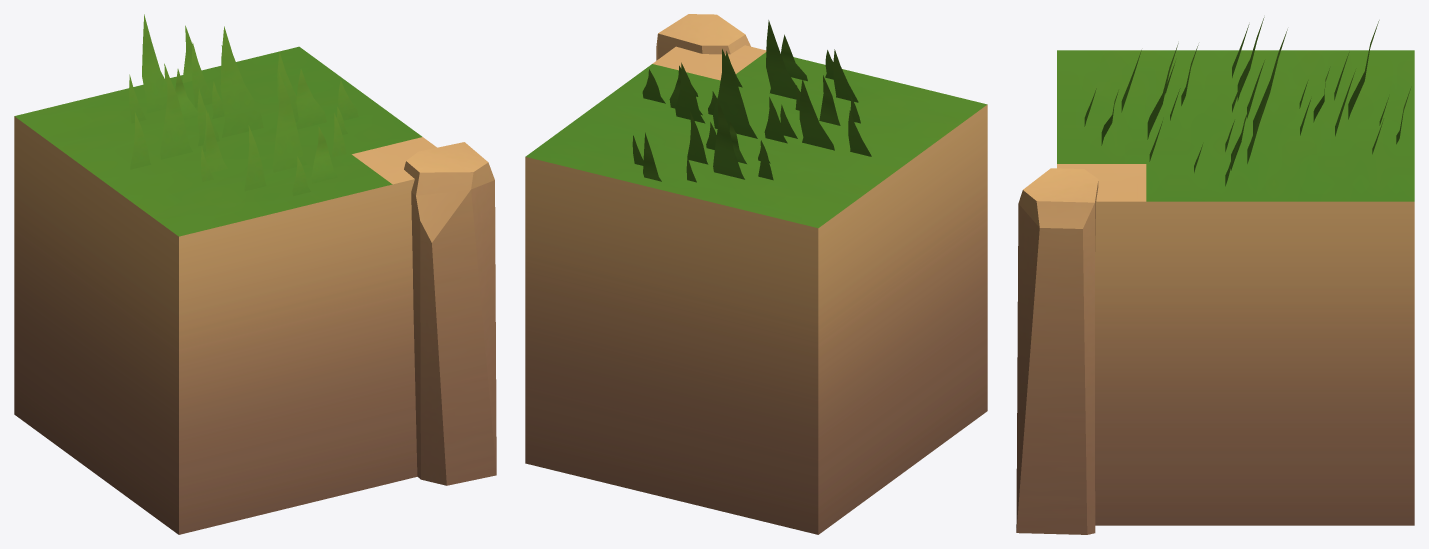
The model's file is connect m tile.fbx.
The picture shows the model from 3 angles, left to right: view 1: azimuth 30°, elevation 25°; view 2: azimuth 150°, elevation 25°; view 3: azimuth 270°, elevation 25°; orthographic projection. The views are drawn at different scales.
Parts seen in each view (by area): view 1: cn_m_tile, rock, cn_m_grass; view 2: cn_m_tile, cn_m_grass, rock; view 3: cn_m_tile, rock, cn_m_grass.
Part boxes in pixels (<box>): cn_m_tile: <box>14,46,436,534</box>; rock: <box>404,142,496,485</box>; cn_m_grass: <box>129,14,358,196</box>; cn_m_tile: <box>525,45,987,534</box>; cn_m_grass: <box>632,20,871,182</box>; rock: <box>656,14,750,60</box>; cn_m_tile: <box>1057,50,1414,525</box>; rock: <box>1016,168,1098,534</box>; cn_m_grass: <box>1084,17,1410,186</box>.
Bounding box in the file's own units: 10.89 × 13.21 × 11.13.
